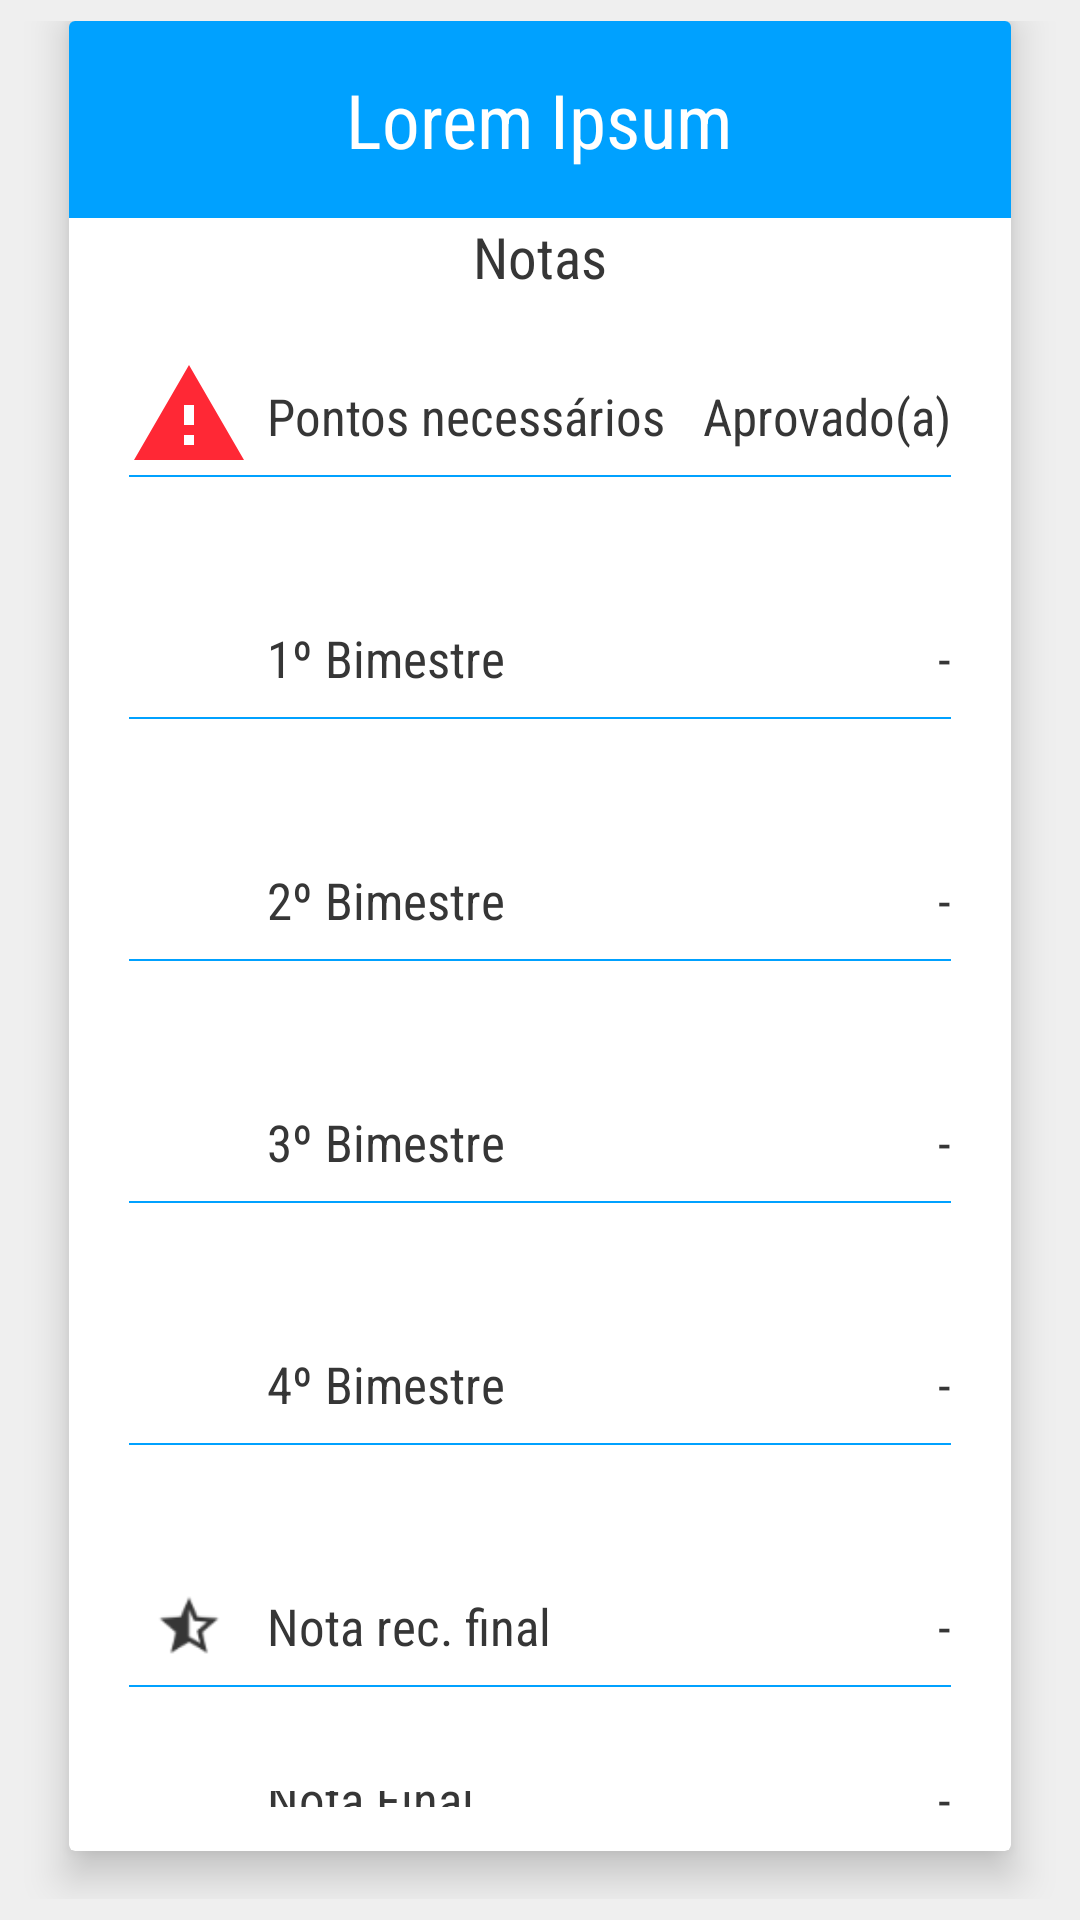

Where to tap for icons on this 1080×1920 app screen, as point (x, y):
star half: point (189, 1625)
warning: point (189, 412)
